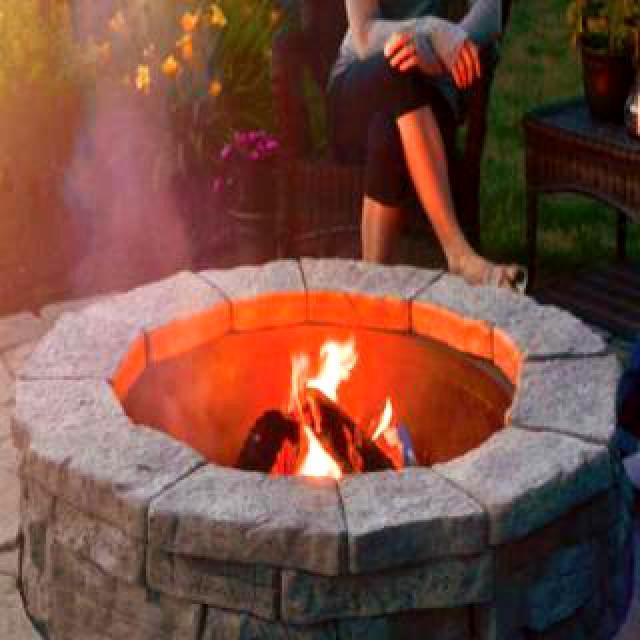Fire: (271, 329, 359, 469), (364, 396, 416, 454)
Smoke: (26, 0, 205, 335)
